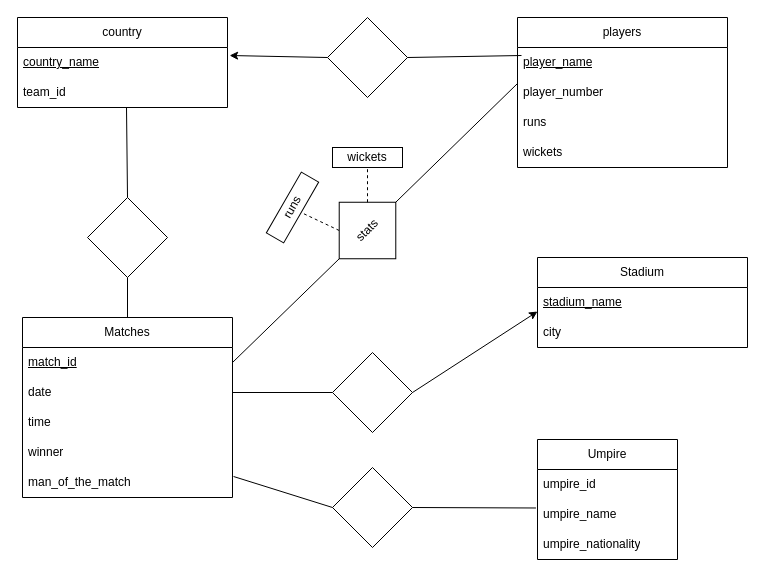
The diagram is 765 pixels wide and 577 high, and some of its shapes have lost their labels. The centre of each missing label's shape, as x and y in pixels:
"plays" belongs at point (127, 237).
"selected stadium" belongs at point (372, 392).
"selected umpires" belongs at point (372, 507).
"team" belongs at point (367, 57).
